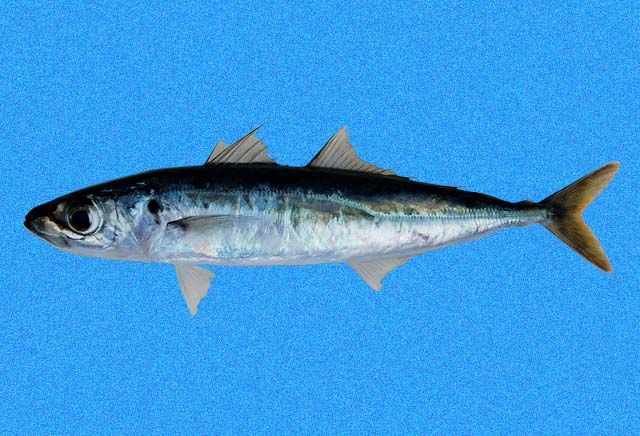fish: (23, 126, 620, 317)
